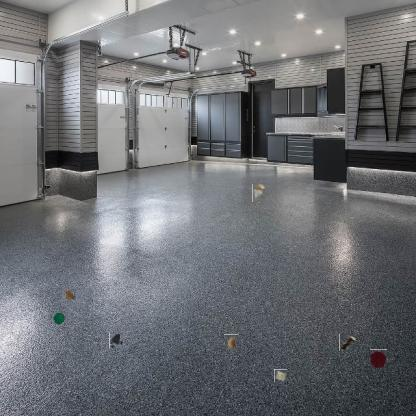dirty: (339, 334, 357, 351), (252, 184, 265, 202), (224, 336, 239, 350), (51, 310, 65, 324), (62, 287, 76, 301), (274, 369, 287, 382)
liquid: (369, 349, 387, 368), (108, 334, 122, 347)
